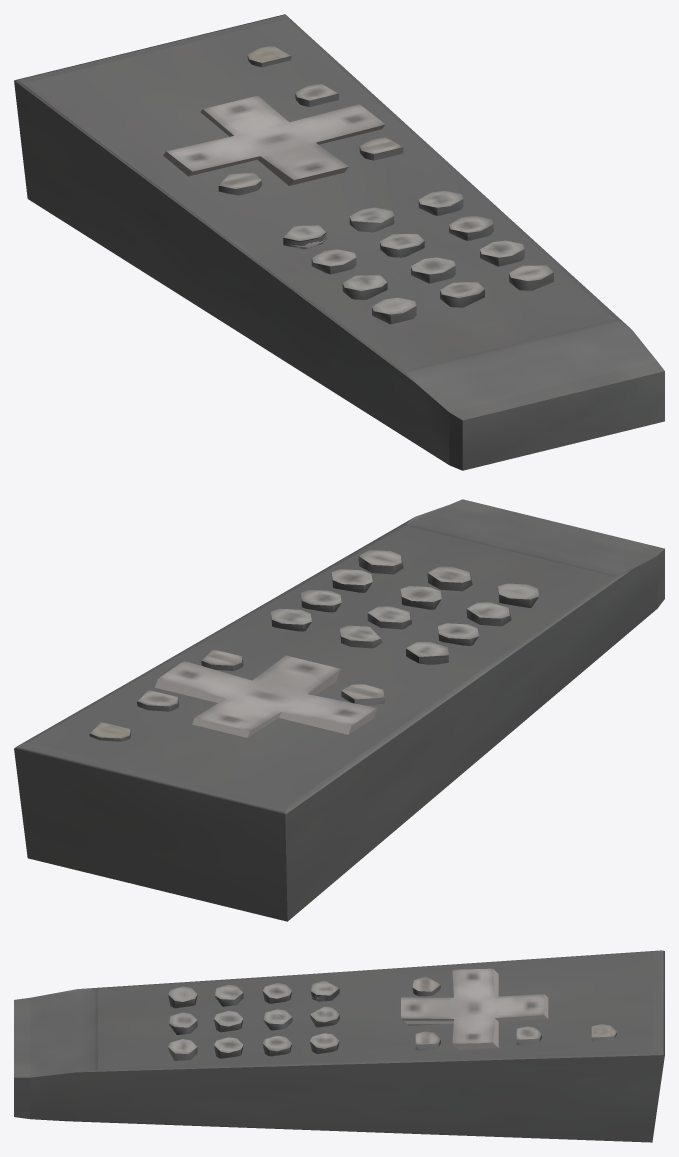
The model's file is old_controller_tv.glb.
3 views of the same model, one above another, from view 1: azimuth 30°, elevation 25°; view 2: azimuth 150°, elevation 25°; view 3: azimuth 270°, elevation 25° (orthographic). The views are drawn at different scales.
Parts seen in each view (by area): view 1: Cube.015, Cube.016, Cylinder.015, Cylinder.017, Cylinder.016, Cylinder.014, Cylinder.013, Cylinder.012, Cylinder.007, Cylinder.008, Cylinder.009, Cylinder.011 (+6 smaller); view 2: Cube.015, Cube.016, Cylinder.017, Cylinder.016, Cylinder.012, Cylinder.015, Cylinder.010, Cylinder.006, Cylinder.013, Cylinder.014, Cylinder.008, Cylinder.007 (+5 smaller); view 3: Cube.015, Cube.016, Cylinder.017, Cylinder.015, Cylinder.013, Cylinder.014, Cylinder.016, Cylinder.012, Cylinder.011, Cylinder.008, Cylinder.009, Cylinder.010 (+6 smaller).
Part boxes in pixels (left/top/right/bottom): Cube.015: left=14, top=14, right=664, bottom=470; Cube.016: left=163, top=95, right=385, bottom=185; Cylinder.015: left=372, top=297, right=416, bottom=324; Cylinder.017: left=509, top=265, right=553, bottom=290; Cylinder.016: left=440, top=282, right=484, bottom=307; Cylinder.014: left=480, top=240, right=524, bottom=266; Cylinder.013: left=411, top=257, right=455, bottom=283; Cylinder.012: left=342, top=275, right=387, bottom=299; Cylinder.007: left=349, top=207, right=394, bottom=232; Cylinder.008: left=418, top=190, right=463, bottom=215; Cylinder.009: left=311, top=249, right=356, bottom=274; Cylinder.011: left=449, top=215, right=493, bottom=240; Cube.015: left=14, top=499, right=664, bottom=921; Cube.016: left=155, top=655, right=377, bottom=737; Cylinder.017: left=358, top=550, right=403, bottom=574; Cylinder.016: left=427, top=566, right=472, bottom=591; Cylinder.012: left=466, top=602, right=511, bottom=626; Cylinder.015: left=498, top=583, right=538, bottom=607; Cylinder.010: left=367, top=606, right=411, bottom=629; Cylinder.006: left=406, top=642, right=448, bottom=664; Cylinder.013: left=400, top=586, right=441, bottom=609; Cylinder.014: left=331, top=569, right=372, bottom=592; Cylinder.008: left=270, top=608, right=311, bottom=631; Cylinder.007: left=339, top=625, right=382, bottom=648; Cube.015: left=14, top=950, right=664, bottom=1142; Cube.016: left=401, top=968, right=548, bottom=1049; Cylinder.017: left=168, top=1039, right=197, bottom=1060; Cylinder.015: left=168, top=986, right=197, bottom=1008; Cylinder.013: left=214, top=1011, right=243, bottom=1032; Cylinder.014: left=214, top=1037, right=243, bottom=1058; Cylinder.016: left=169, top=1012, right=197, bottom=1034; Cylinder.012: left=215, top=984, right=243, bottom=1006; Cylinder.011: left=262, top=1035, right=292, bottom=1056; Cylinder.008: left=310, top=1033, right=339, bottom=1053; Cylinder.009: left=262, top=983, right=292, bottom=1003; Cylinder.010: left=263, top=1009, right=292, bottom=1030.
Size of the model in its own units: 0.06 by 0.0246 by 0.1587.
1 material, 1 textured.
